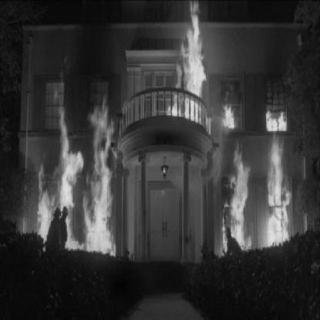Fire: (220, 94, 252, 258)
